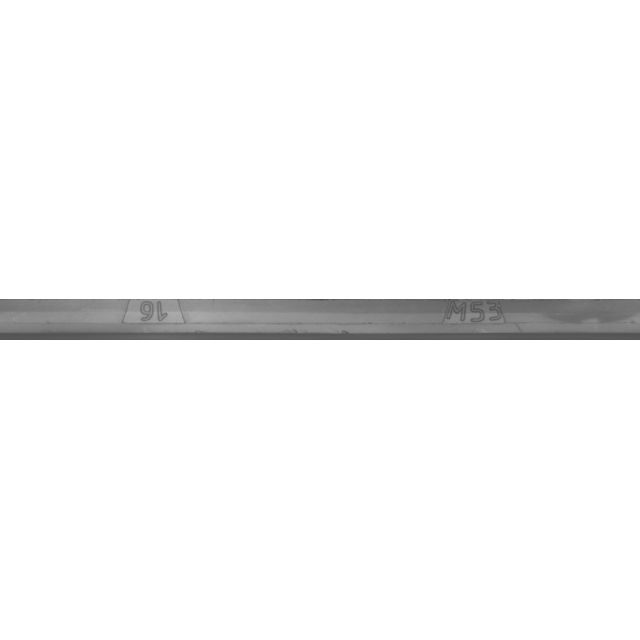mohao: (377, 270, 577, 370)
xuehao: (52, 270, 252, 370)
